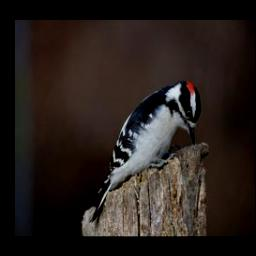Woodpecker: (88, 78, 203, 225)
